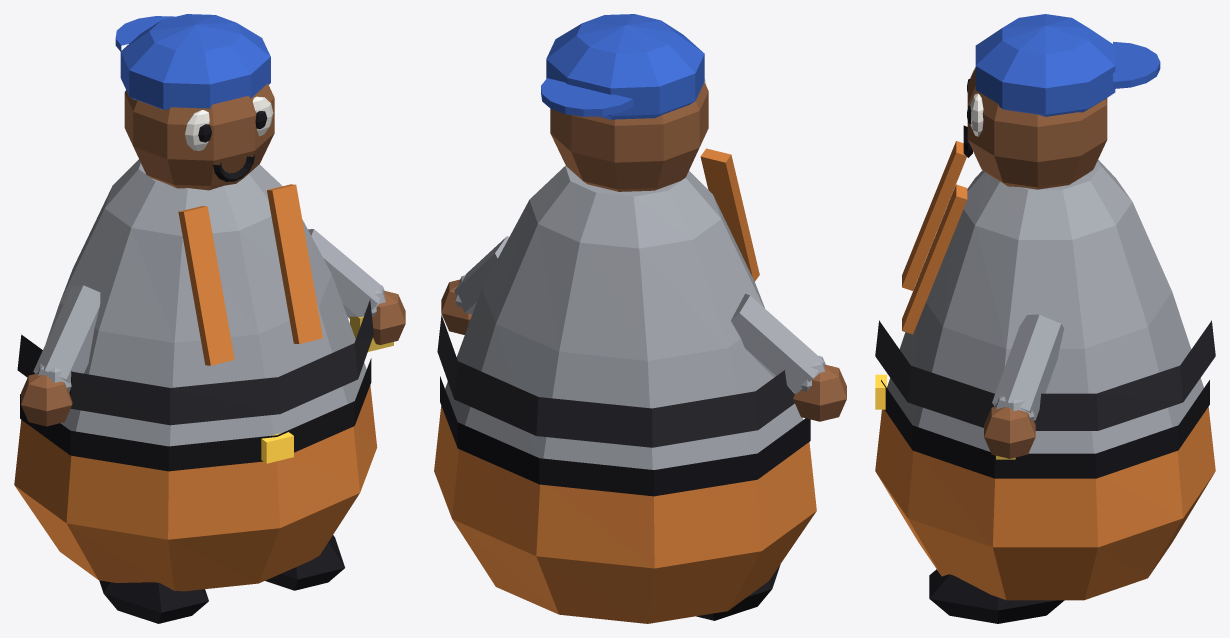
File: npc_mudancero.glb
3 views of the same model, side by side, from view 1: azimuth 30°, elevation 25°; view 2: azimuth 150°, elevation 25°; view 3: azimuth 270°, elevation 25° (orthographic). The views are drawn at different scales.
Parts seen in each view (by area): view 1: body_overalls, body_tshirt_grey, body_back_belt, cap_mover_cap, head_skin_cacao, body_black, arms_tshirt_grey, legs_black, arms_skin_cacao, face_white, face_black, body_gold; view 2: body_tshirt_grey, body_overalls, body_back_belt, cap_mover_cap, head_skin_cacao, body_black, arms_tshirt_grey, arms_skin_cacao, legs_black; view 3: body_tshirt_grey, body_overalls, cap_mover_cap, body_back_belt, head_skin_cacao, body_black, arms_tshirt_grey, legs_black, arms_skin_cacao, face_white.
Part boxes in pixels (box(x1,y1,x2,y2)): body_overalls: box(14, 184, 377, 591); body_tshirt_grey: box(46, 159, 366, 446); body_back_belt: box(17, 299, 373, 425); cap_mover_cap: box(115, 14, 270, 109); head_skin_cacao: box(124, 83, 274, 190); body_black: box(20, 358, 371, 471); arms_tshirt_grey: box(33, 229, 385, 392); legs_black: box(99, 535, 344, 623); arms_skin_cacao: box(21, 291, 405, 426); face_white: box(185, 96, 273, 150); face_black: box(198, 111, 267, 181); body_gold: box(261, 432, 293, 463); body_tshirt_grey: box(445, 165, 803, 469); body_overalls: box(434, 148, 816, 623); body_back_belt: box(437, 315, 794, 447); cap_mover_cap: box(541, 14, 704, 119); head_skin_cacao: box(550, 82, 708, 191); body_black: box(440, 376, 810, 496); arms_tshirt_grey: box(454, 236, 825, 394); arms_skin_cacao: box(441, 279, 846, 421); legs_black: box(696, 564, 780, 620); body_tshirt_grey: box(887, 159, 1203, 453); body_overalls: box(875, 141, 1215, 600); cap_mover_cap: box(975, 14, 1160, 116); body_back_belt: box(875, 320, 1215, 430); head_skin_cacao: box(967, 68, 1107, 189); body_black: box(881, 380, 1209, 478); arms_tshirt_grey: box(992, 314, 1064, 421); legs_black: box(929, 569, 1064, 623); arms_skin_cacao: box(984, 406, 1035, 458); face_white: box(970, 67, 983, 136).
Bounding box in the file's own units: 1.13 × 1.55 × 0.86.
